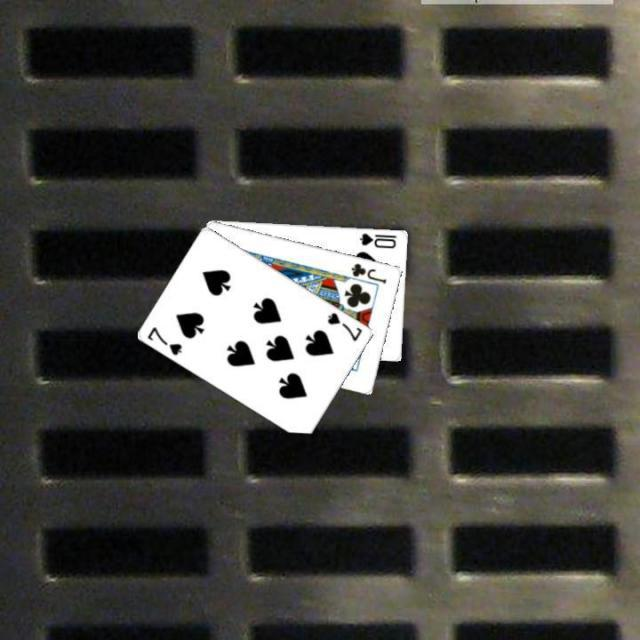10S: (356, 228, 398, 250)
7S: (143, 322, 184, 358), (324, 308, 364, 344)
JC: (348, 258, 388, 286)
